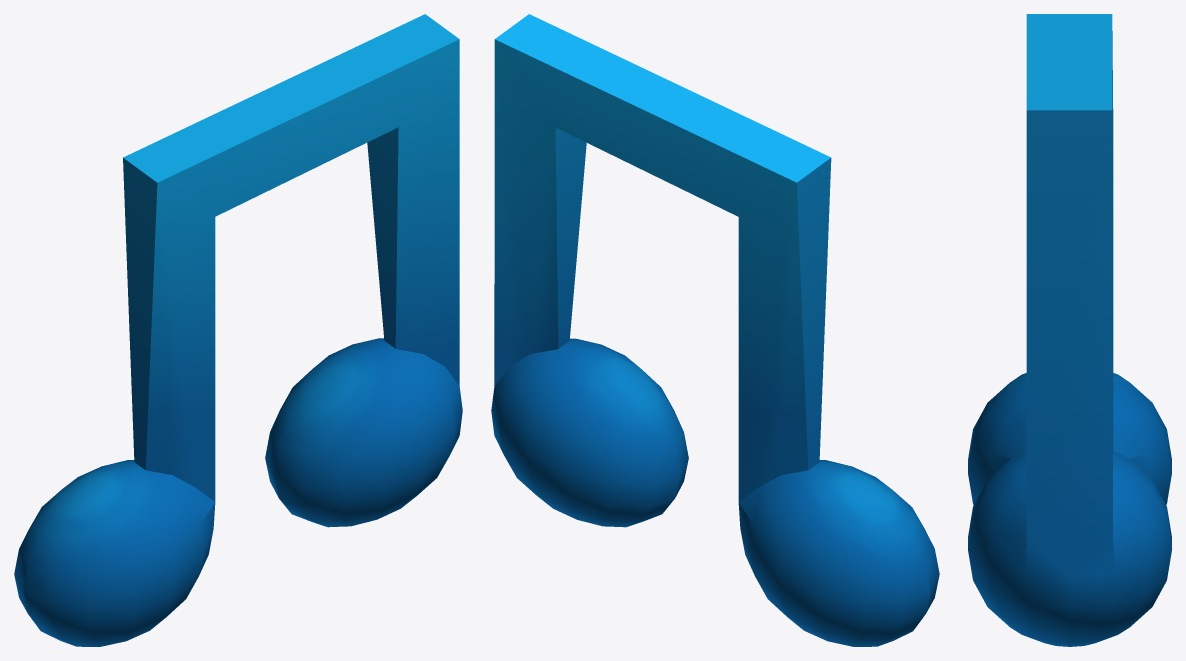
File: Note.fbx
3 views of the same model, side by side, from view 1: azimuth 30°, elevation 25°; view 2: azimuth 150°, elevation 25°; view 3: azimuth 270°, elevation 25° (orthographic). The views are drawn at different scales.
Visible parts, largest first — view 1: Note; view 2: Note; view 3: Note.
Boxes of the visible parts, box(x1,y1,x2,y2) form: Note: box(14, 14, 462, 646); Note: box(491, 14, 939, 646); Note: box(968, 14, 1171, 646).
Bounding box in the file's own units: 258 × 304 × 85.74.
